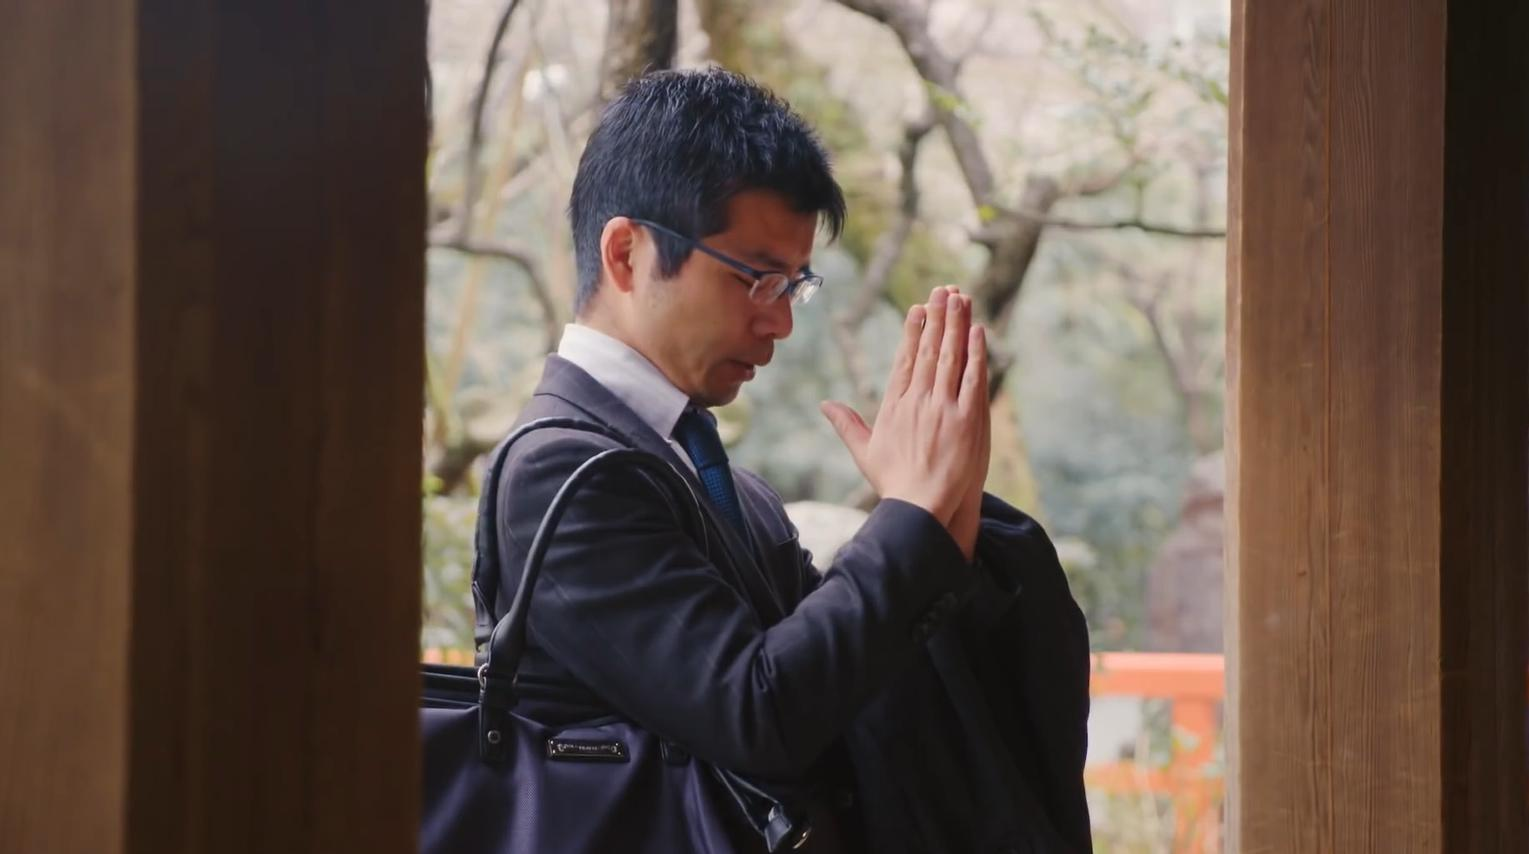without_mask: (678, 237, 779, 383)
